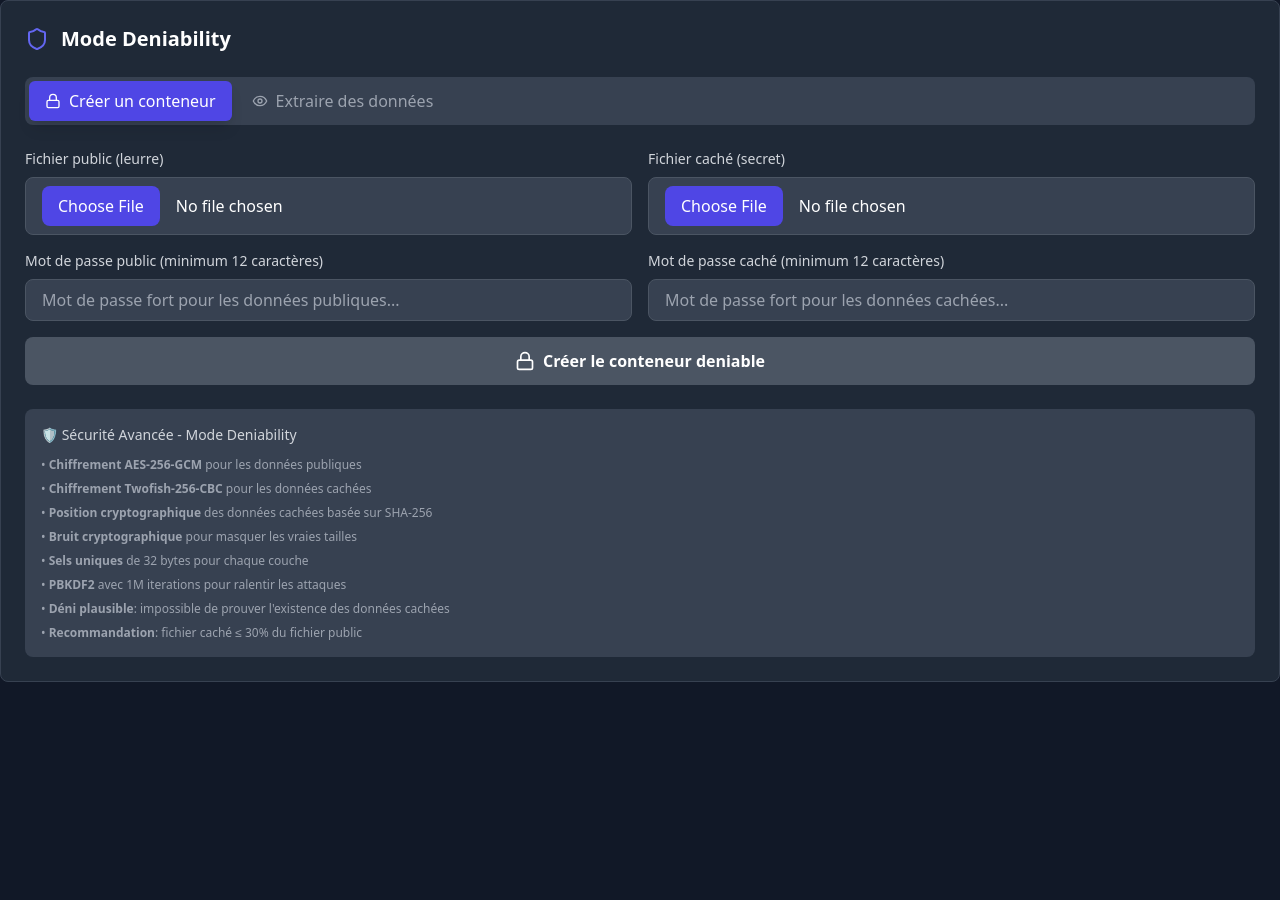
Test: DeniabilityComponent › should switch between create and extract modes
What coordinates should you click on to do the following:
click the button "Extraire des données"
I would click on:
 (342, 101)
Its box is [236,81,449,121].
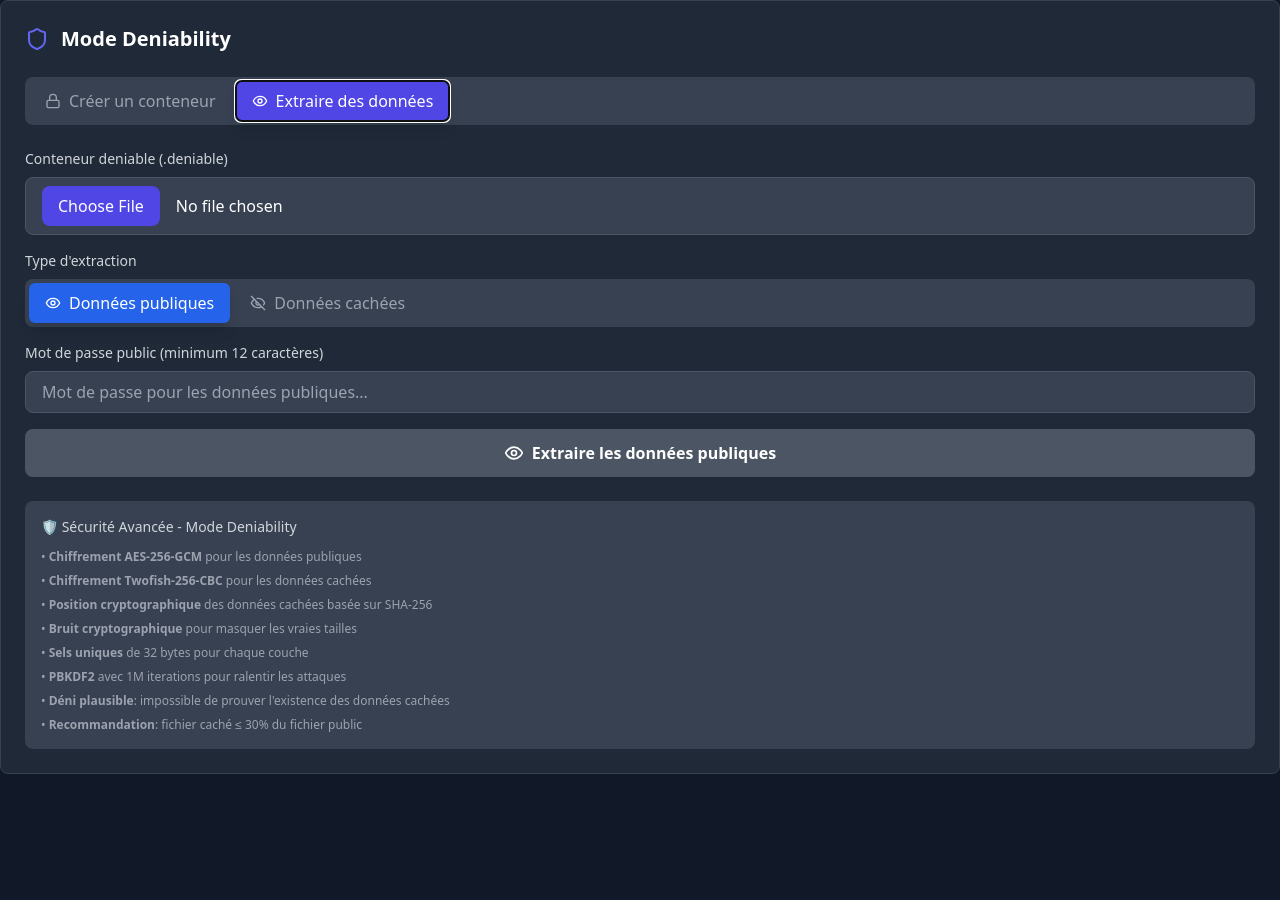
Check: the text "Conteneur deniable (.deniable)" is shown, box [25,149,228,168]
